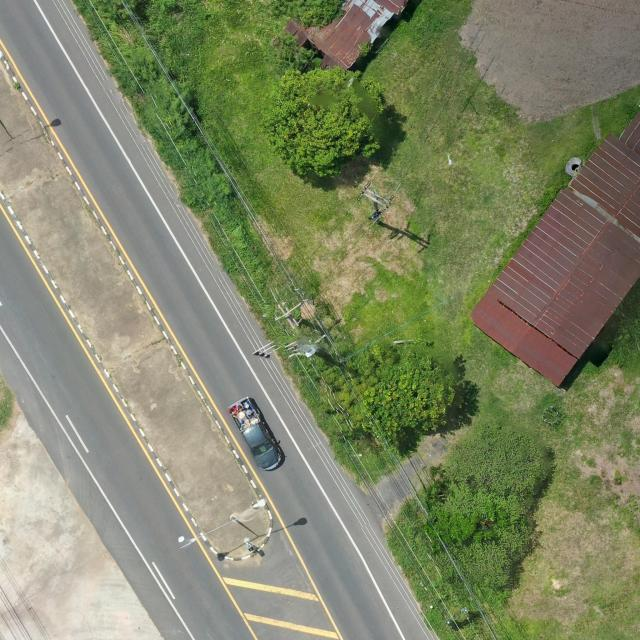Tree: (262, 66, 384, 178), (356, 338, 457, 447)
